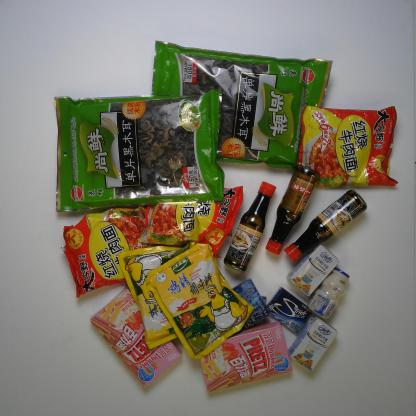Dessert: (92, 288, 183, 392), (193, 324, 292, 396)
Dried Food: (150, 40, 333, 172), (46, 86, 226, 213)
Gum: (224, 278, 270, 328), (264, 285, 311, 333), (218, 295, 267, 330)
Instant Noodles: (295, 96, 406, 196), (61, 208, 171, 298), (145, 184, 242, 254)
Milk: (286, 318, 342, 376), (310, 268, 352, 327), (289, 246, 338, 296)
Seasoner: (147, 242, 253, 361), (116, 245, 209, 351), (287, 188, 368, 264), (224, 181, 276, 273), (266, 162, 316, 254)
